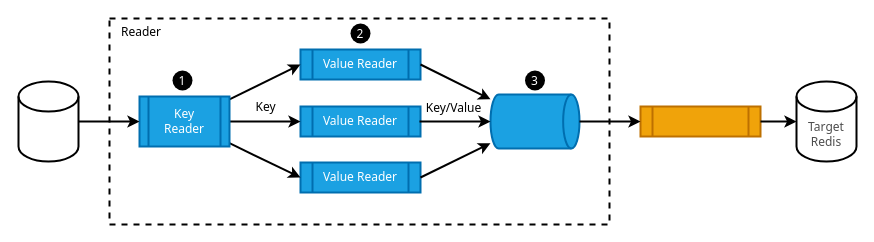
This 874x242 diagram has some shape labels left out. The box of each missing label's shape, as (x1, y1, x2, y2) in pixels:
Queue: (489, 93, 580, 149)
Source Redis: (17, 80, 79, 162)
Writer: (639, 105, 761, 137)
